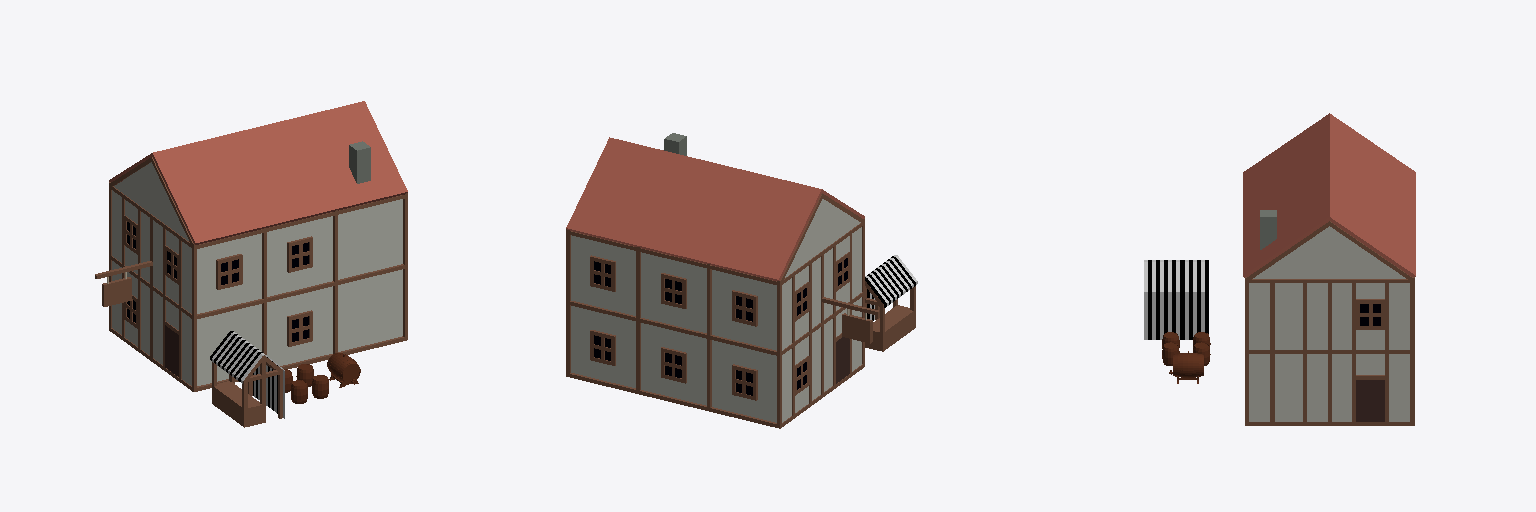
File: timberframedvintner_black_white.obj
3 views of the same model, side by side, from view 1: azimuth 30°, elevation 25°; view 2: azimuth 150°, elevation 25°; view 3: azimuth 270°, elevation 25° (orthographic).
Visible parts, largest first — view 1: Cube.005, Cube.007_Cube.011, Cube.011_Cube.015, Cube.018_Cube.016, Cube.056_Cube.081, barrel_Untitled, Cube.001_Cube.058, Cube.013_Cube.080, Cube.006_Cube.010, Cube.026_Cube.019, Cube.073_Cube.078, Cube.012_Cube.017 (+6 smaller); view 2: Cube.005, Cube.007_Cube.011, Cube.023_Cube.026, Cube.022_Cube.025, Cube.021_Cube.024, Cube.015_Cube.020, Cube.019_Cube.022, Cube.017_Cube.021, Cube.014_Cube.018, Cube.008, Cube.020_Cube.023, Cube.073_Cube.078 (+6 smaller); view 3: Cube.005, Cube.007_Cube.011, Cube.147_Cube.153, Cube.003, Cube.033, barrel_Untitled, Cube.027, Cube.047_Cube.049, Cube.031, Cube.006_Cube.010, Cube.016_Cube.013, Cube.012_Cube.017 (+5 smaller).
Boxes of the visible parts, x1=… form: Cube.005: x1=112, y1=162, x2=402, y2=385; Cube.007_Cube.011: x1=109, y1=101, x2=407, y2=244; Cube.011_Cube.015: x1=195, y1=264, x2=406, y2=319; Cube.018_Cube.016: x1=195, y1=195, x2=406, y2=249; Cube.056_Cube.081: x1=216, y1=254, x2=242, y2=289; barrel_Untitled: x1=327, y1=353, x2=360, y2=387; Cube.001_Cube.058: x1=287, y1=310, x2=312, y2=346; Cube.013_Cube.080: x1=287, y1=236, x2=312, y2=272; Cube.006_Cube.010: x1=349, y1=141, x2=370, y2=183; Cube.026_Cube.019: x1=192, y1=243, x2=196, y2=391; Cube.073_Cube.078: x1=102, y1=277, x2=131, y2=306; Cube.012_Cube.017: x1=403, y1=193, x2=407, y2=339; Cube.005: x1=571, y1=199, x2=861, y2=422; Cube.007_Cube.011: x1=566, y1=137, x2=864, y2=280; Cube.023_Cube.026: x1=567, y1=373, x2=776, y2=427; Cube.022_Cube.025: x1=567, y1=301, x2=777, y2=355; Cube.021_Cube.024: x1=570, y1=231, x2=776, y2=284; Cube.015_Cube.020: x1=732, y1=290, x2=757, y2=326; Cube.019_Cube.022: x1=661, y1=347, x2=686, y2=383; Cube.017_Cube.021: x1=590, y1=330, x2=615, y2=365; Cube.014_Cube.018: x1=661, y1=273, x2=686, y2=308; Cube.008: x1=590, y1=255, x2=615, y2=291; Cube.020_Cube.023: x1=732, y1=364, x2=757, y2=400; Cube.073_Cube.078: x1=842, y1=313, x2=872, y2=343; Cube.005: x1=1249, y1=226, x2=1409, y2=421; Cube.007_Cube.011: x1=1243, y1=113, x2=1415, y2=277; Cube.147_Cube.153: x1=1144, y1=292, x2=1208, y2=339; Cube.003: x1=1356, y1=380, x2=1384, y2=421; Cube.033: x1=1356, y1=299, x2=1384, y2=329; barrel_Untitled: x1=1169, y1=351, x2=1203, y2=383; Cube.027: x1=1410, y1=277, x2=1414, y2=425; Cube.047_Cube.049: x1=1270, y1=279, x2=1274, y2=423; Cube.031: x1=1249, y1=422, x2=1410, y2=425; Cube.006_Cube.010: x1=1260, y1=210, x2=1276, y2=249; Cube.016_Cube.013: x1=1248, y1=350, x2=1409, y2=353; Cube.012_Cube.017: x1=1245, y1=277, x2=1248, y2=425.
Size of the model in its own units: 15.3 by 11.25 by 13.34.